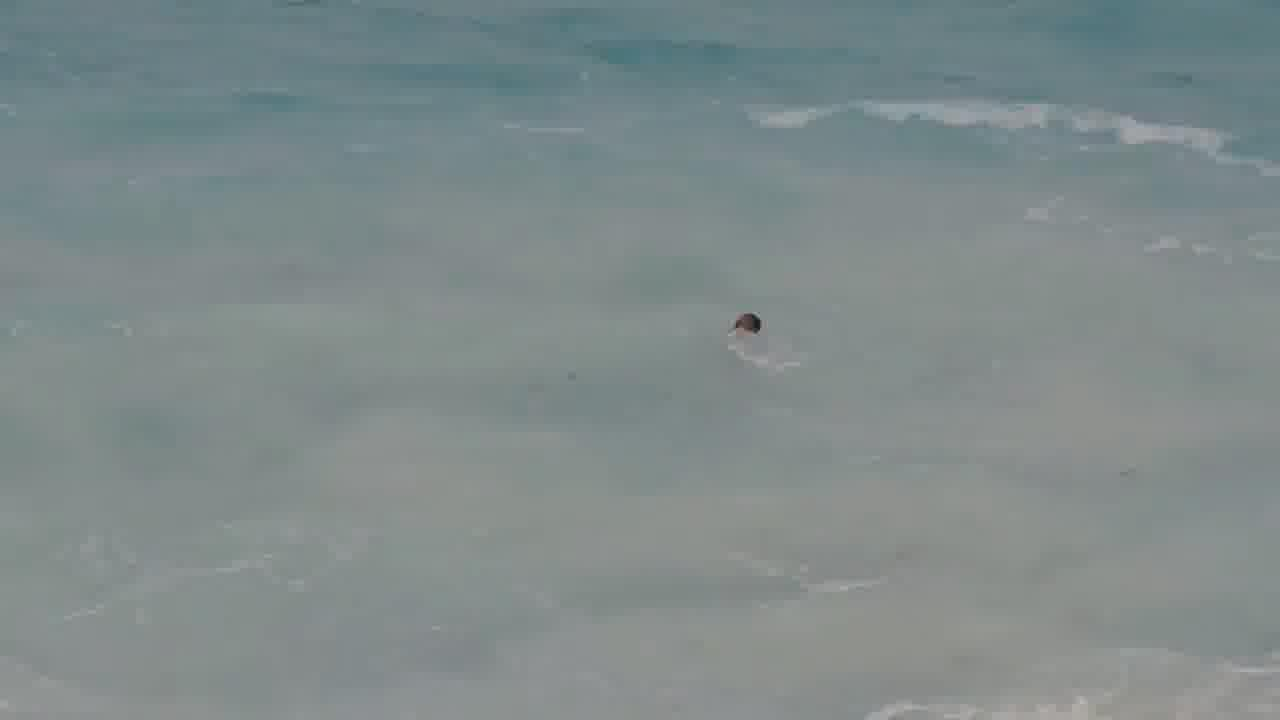swimmer: (724, 299, 766, 350)
